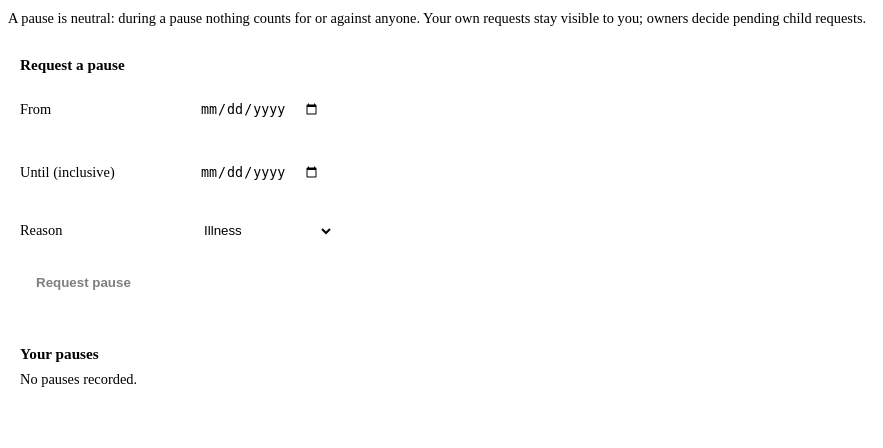
Test: PauseSettings › keeps the draft on a 409 and shows the conflict note
The image size is (883, 448).
Type "2026-10-01" into the date field with test id "pause-start-input" at point(260, 110), box x1=192 y1=82 x2=328 y2=137
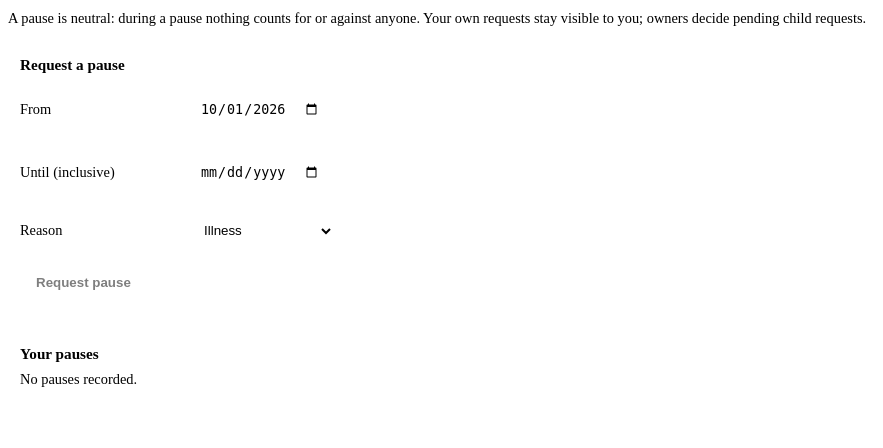
Type "2026-10-03" into the date field with test id "pause-end-input" at point(260, 173), box x1=192 y1=145 x2=328 y2=200
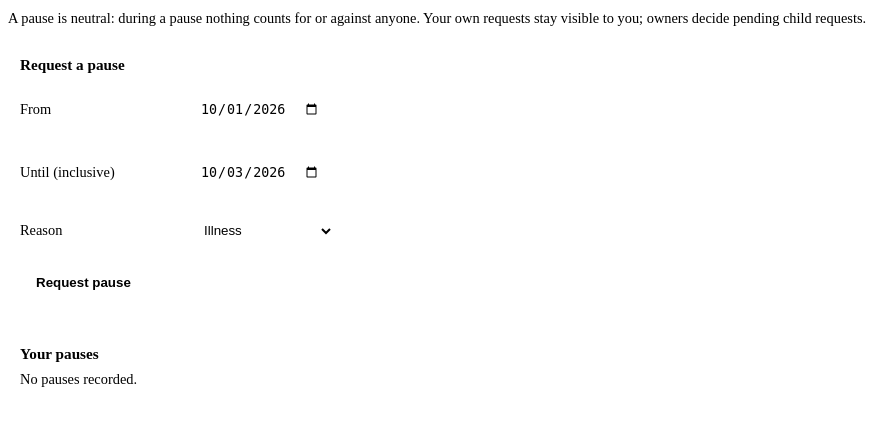
Submit the form from the button with test id "pause-request-submit", box x1=20 y1=260 x2=147 y2=304
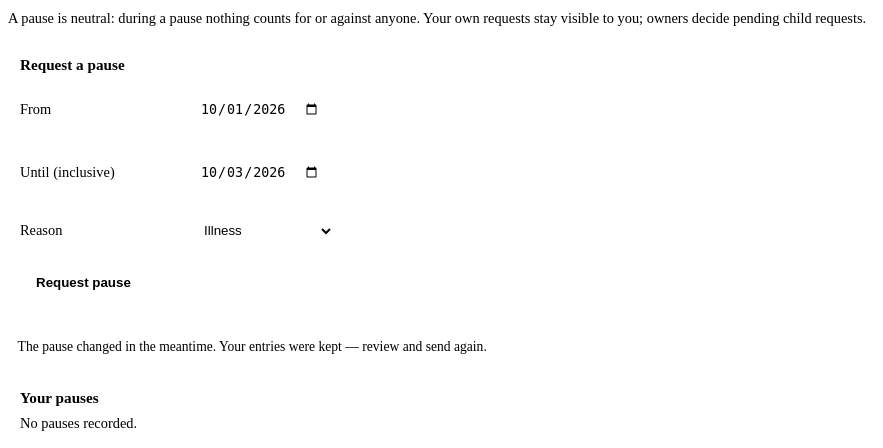
Result: the message with test id "pause-conflict" is shown at x1=18 y1=339 x2=487 y2=354
